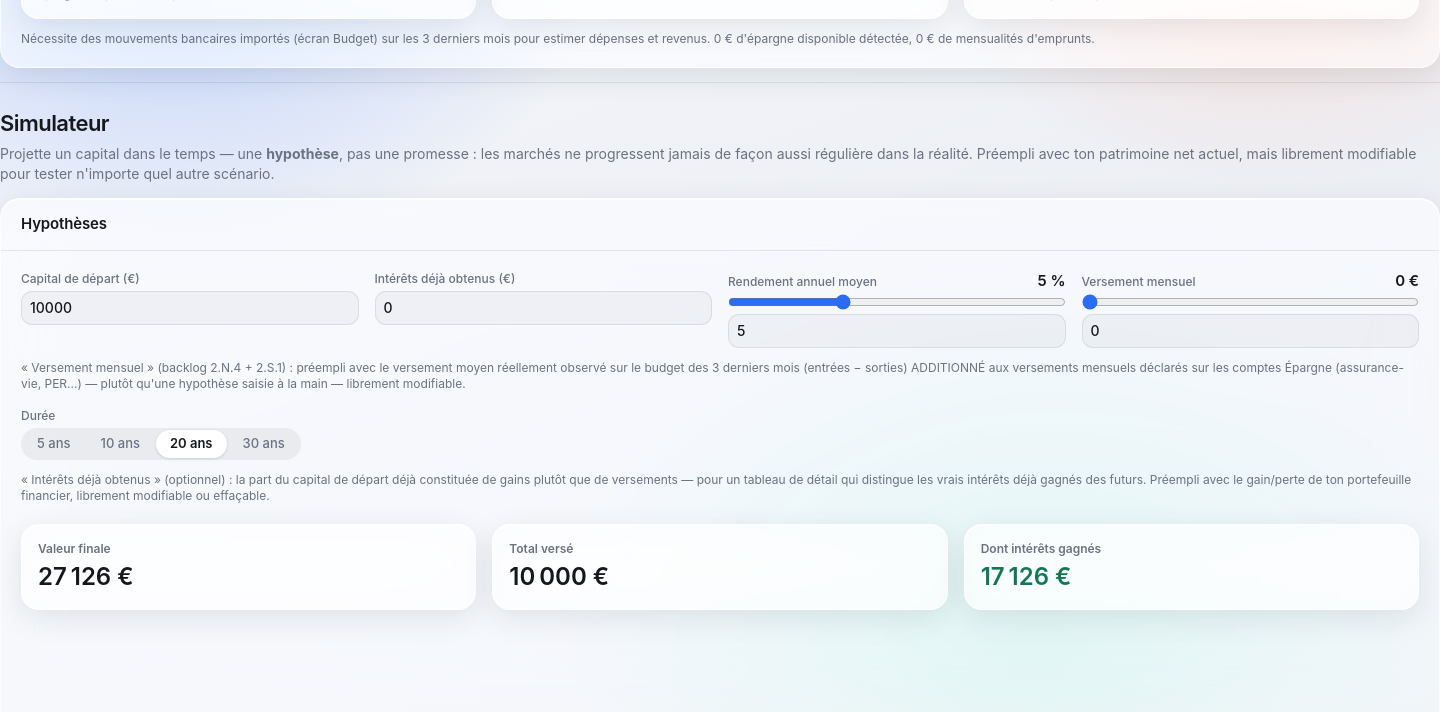
Scenario: SimulateurPage › FIRE › indépendance déjà atteinte affiche "Déjà atteinte"
(page scrolled)
Replace the text in the number field labelled "Capital de départ (€)" with "2000000" at {"x": 190, "y": 308}, box [21, 290, 358, 324]
(page scrolled)
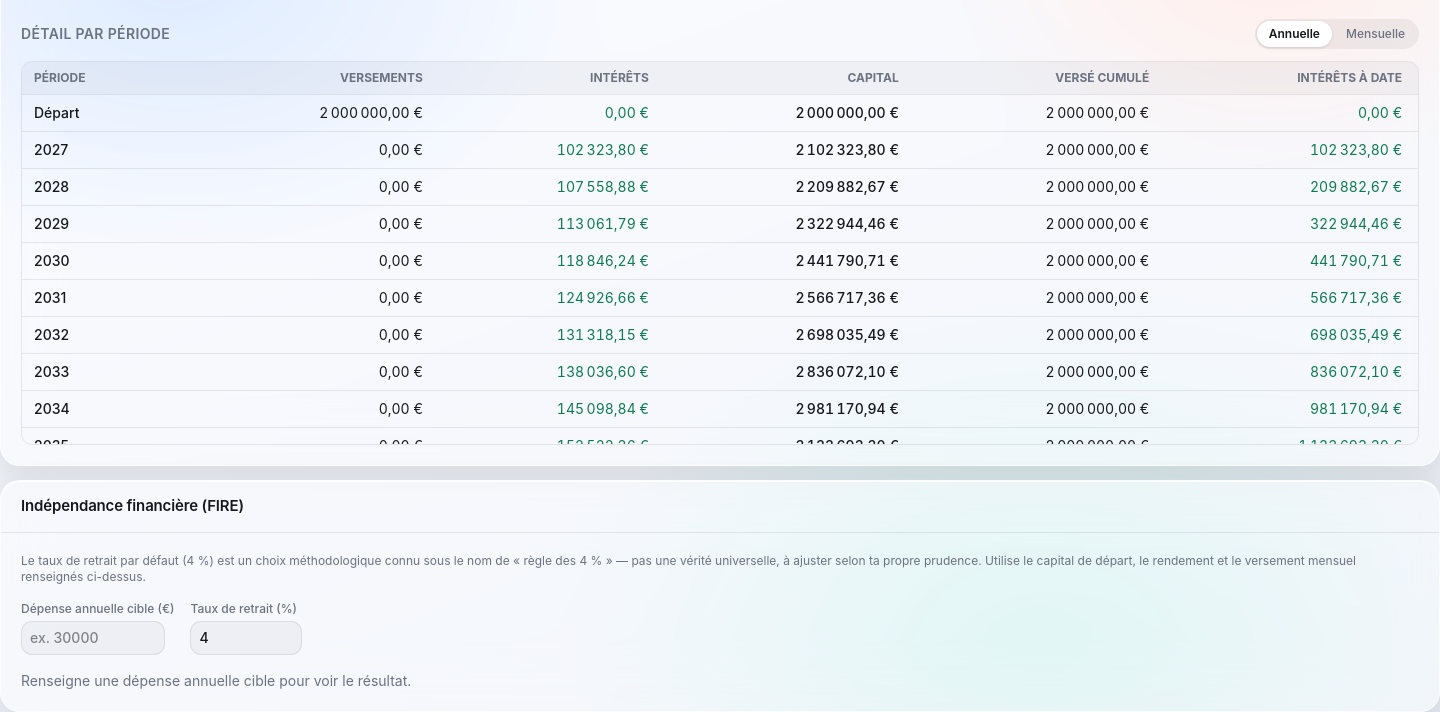
Type "40000" into the number field labelled "Dépense annuelle cible (€)" at {"x": 93, "y": 638}, box [21, 621, 165, 655]
(page scrolled)
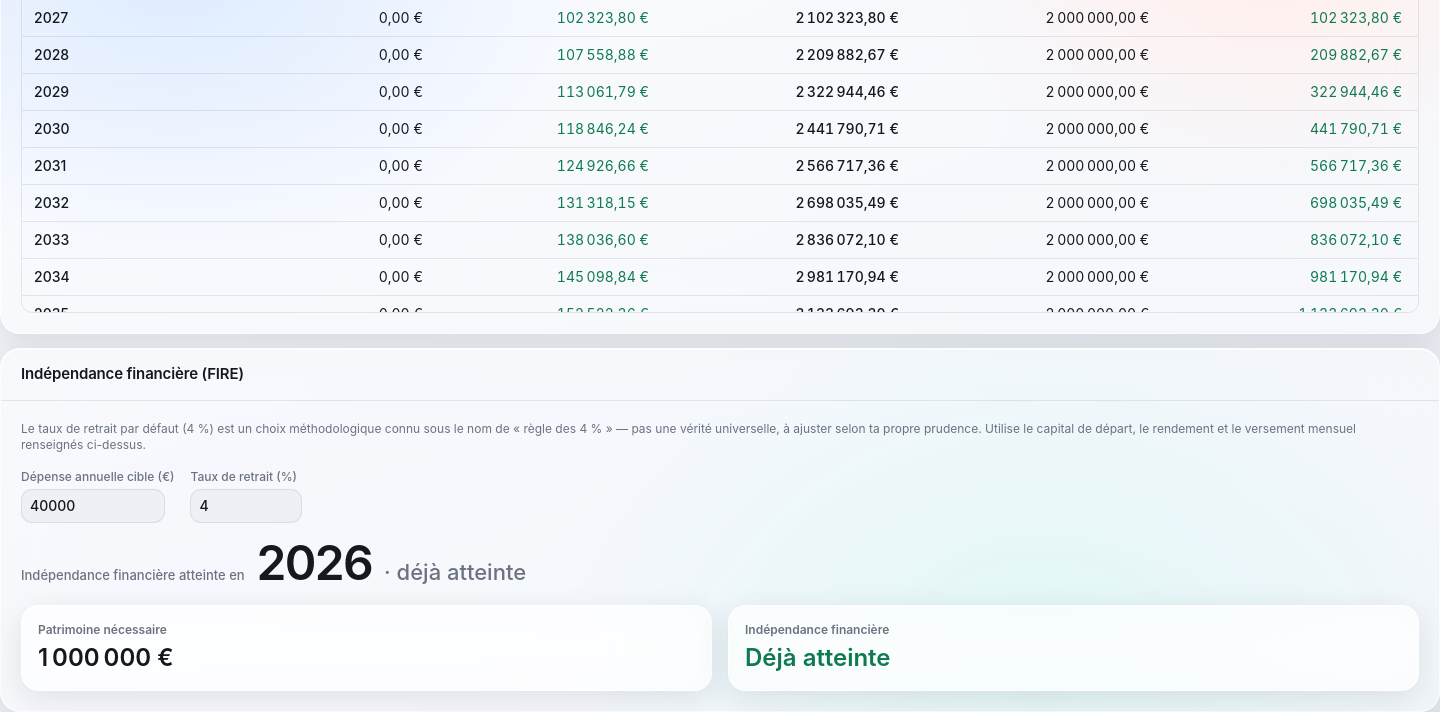
Expected: the text "Déjà atteinte" is shown, [745, 643, 890, 672]
